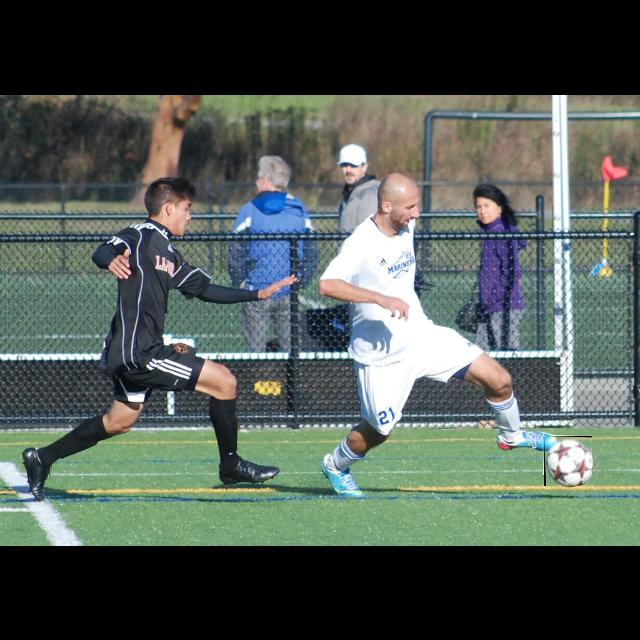Football: (544, 436, 592, 486)
